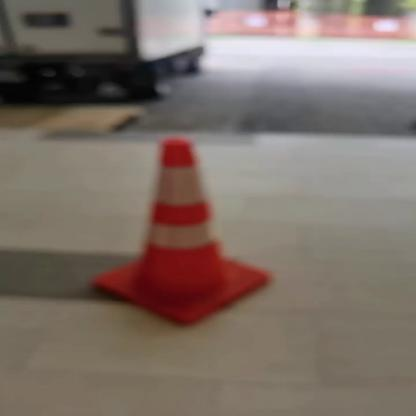cone: (67, 126, 285, 331)
